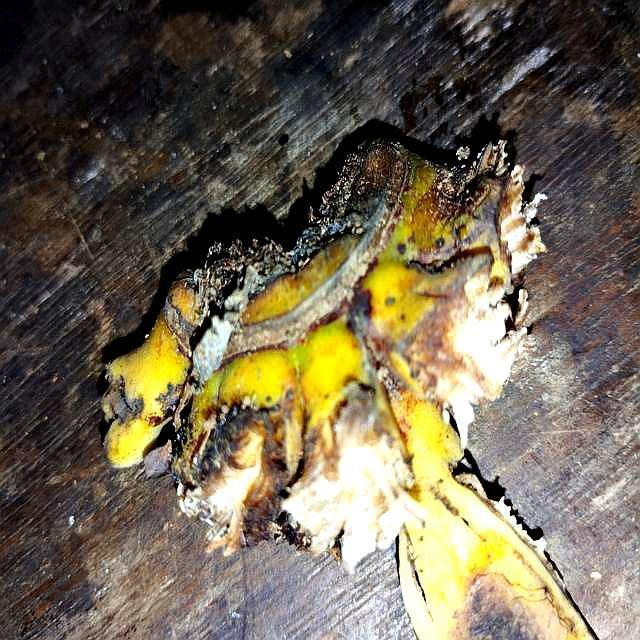Biodegradable: (101, 147, 551, 561)
